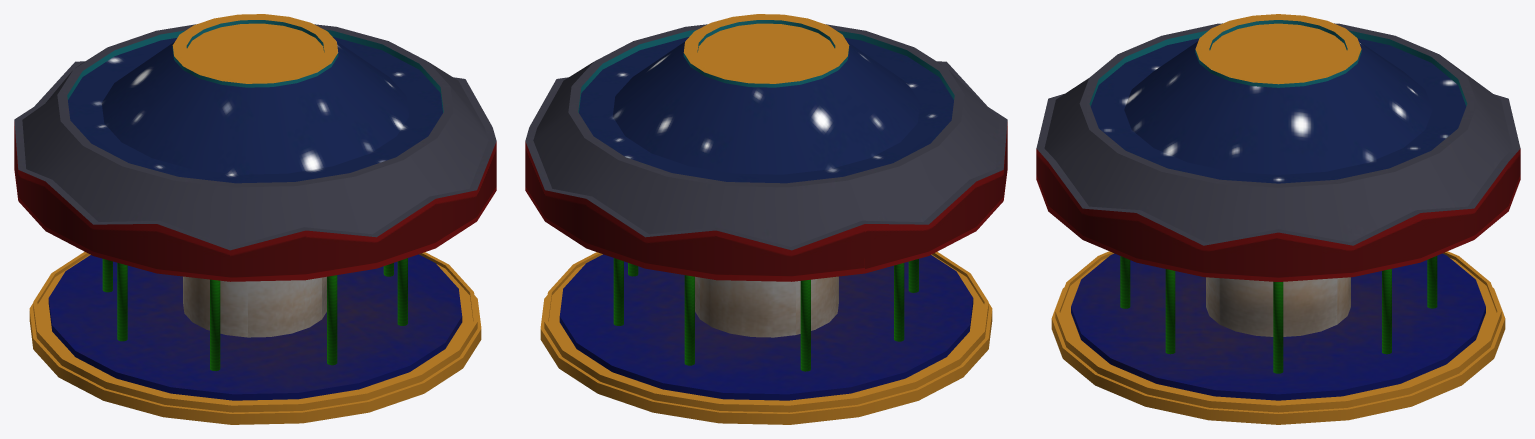
Rendered from carousel.fbx.
3 views of the same model, side by side, from view 1: azimuth 30°, elevation 25°; view 2: azimuth 150°, elevation 25°; view 3: azimuth 270°, elevation 25° (orthographic).
Visible parts, largest first — view 1: pCylinder3, pCylinder4, pCylinder1, polySurface1; view 2: pCylinder3, pCylinder4, pCylinder1, polySurface1; view 3: pCylinder3, pCylinder4, pCylinder1, polySurface1.
Boxes of the visible parts, box(x1,y1,x2,y2) form: pCylinder3: box(14, 14, 496, 281); pCylinder4: box(48, 254, 462, 400); pCylinder1: box(29, 251, 481, 424); polySurface1: box(102, 258, 407, 370); pCylinder3: box(525, 14, 1007, 281); pCylinder4: box(559, 254, 973, 400); pCylinder1: box(540, 251, 992, 424); polySurface1: box(613, 258, 918, 371); pCylinder3: box(1036, 14, 1520, 281); pCylinder4: box(1071, 253, 1485, 400); pCylinder1: box(1051, 251, 1505, 424); polySurface1: box(1120, 256, 1437, 373).
Size of the model in its own units: 28 by 17.87 by 28.
